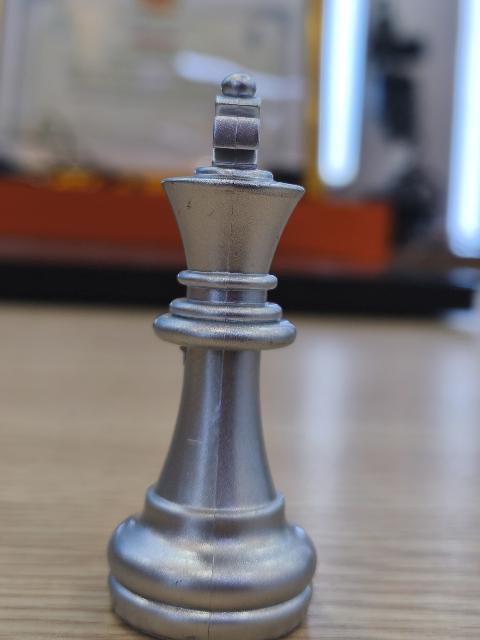white_king: (112, 74, 318, 636)
